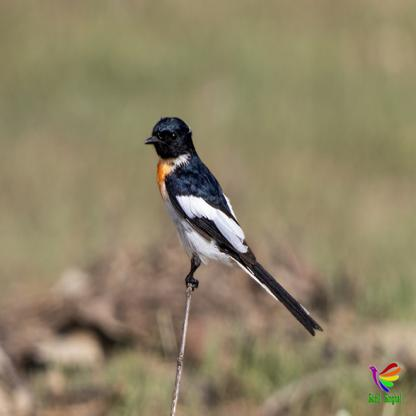Burung: (144, 117, 322, 338)
